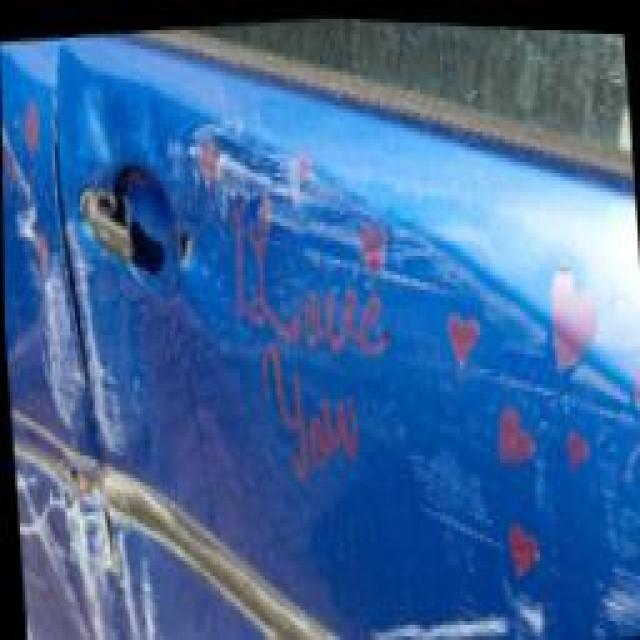Door: (0, 102, 639, 640)
